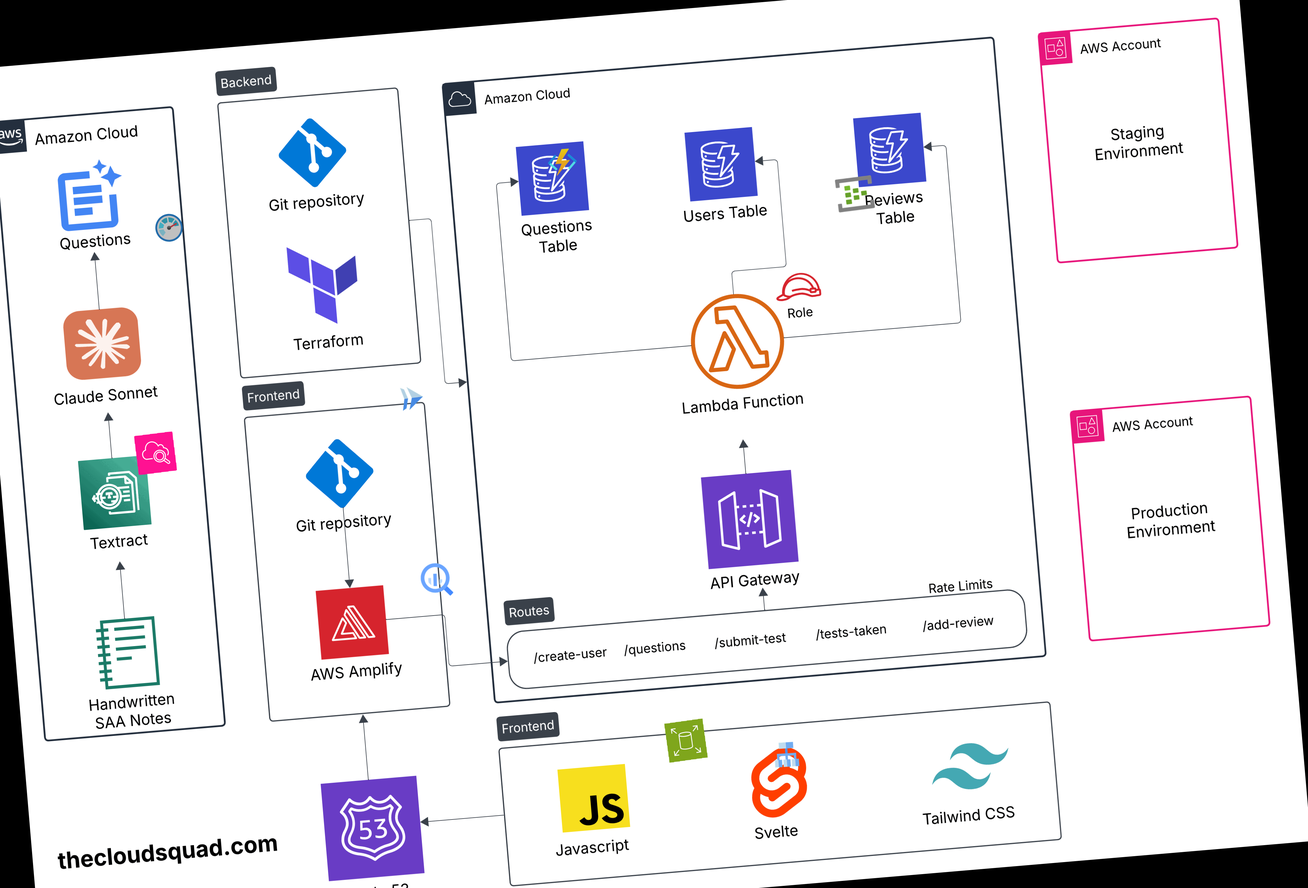aws_amazon_cloudwatch: (134, 431, 177, 475)
aws_amazon_elastic_block_store: (664, 718, 708, 763)
azure_event_hubs: (833, 171, 877, 216)
azure_function_apps: (546, 146, 578, 178)
azure_monitor: (152, 210, 186, 245)
gcp_bigquery: (414, 557, 459, 602)
gcp_cloud_load_balancing: (770, 738, 803, 771)
gcp_cloud_run: (395, 381, 428, 415)
